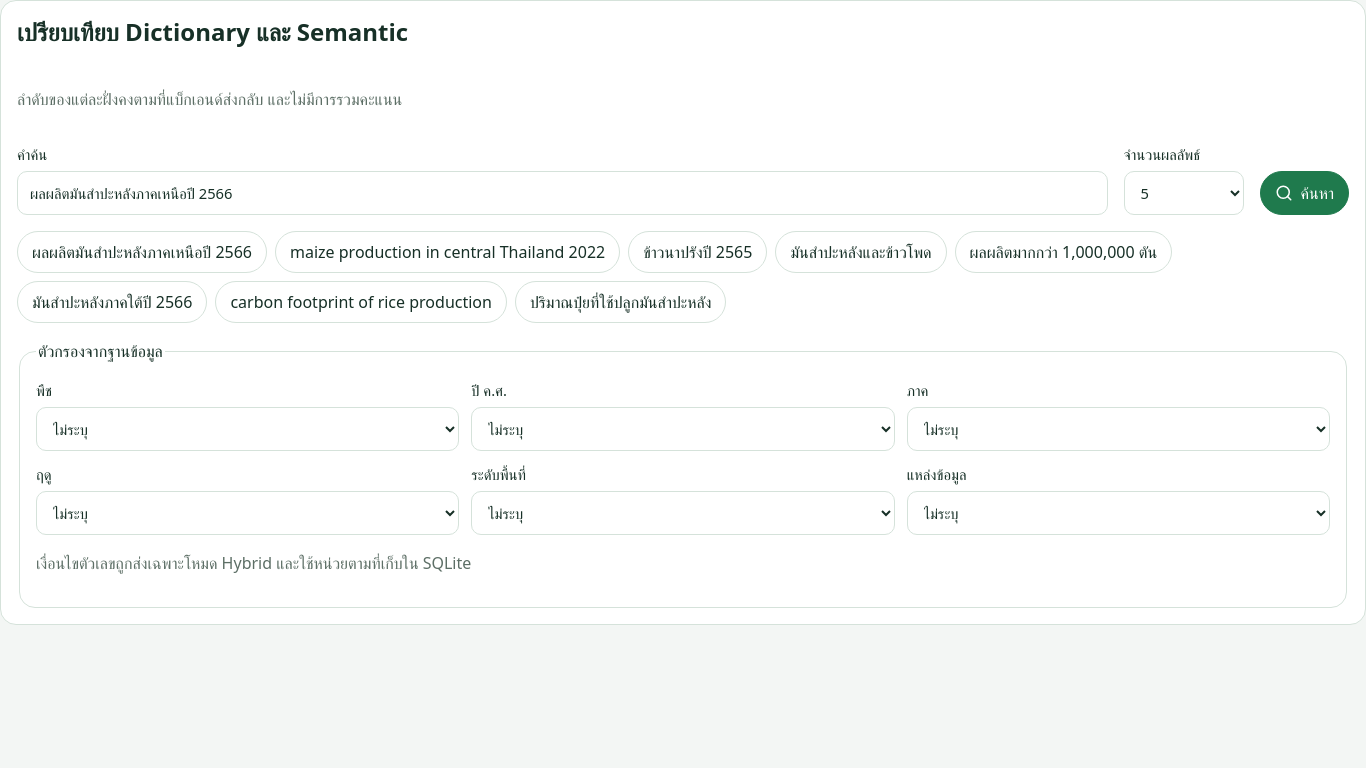
Test: frontend › shows a dictionary source from the catalog and hides a missing source
The width and height of the screenshot is (1366, 768).
Click the button "ค้นหา": (1304, 193) [1260,171,1349,215]
(page scrolled)
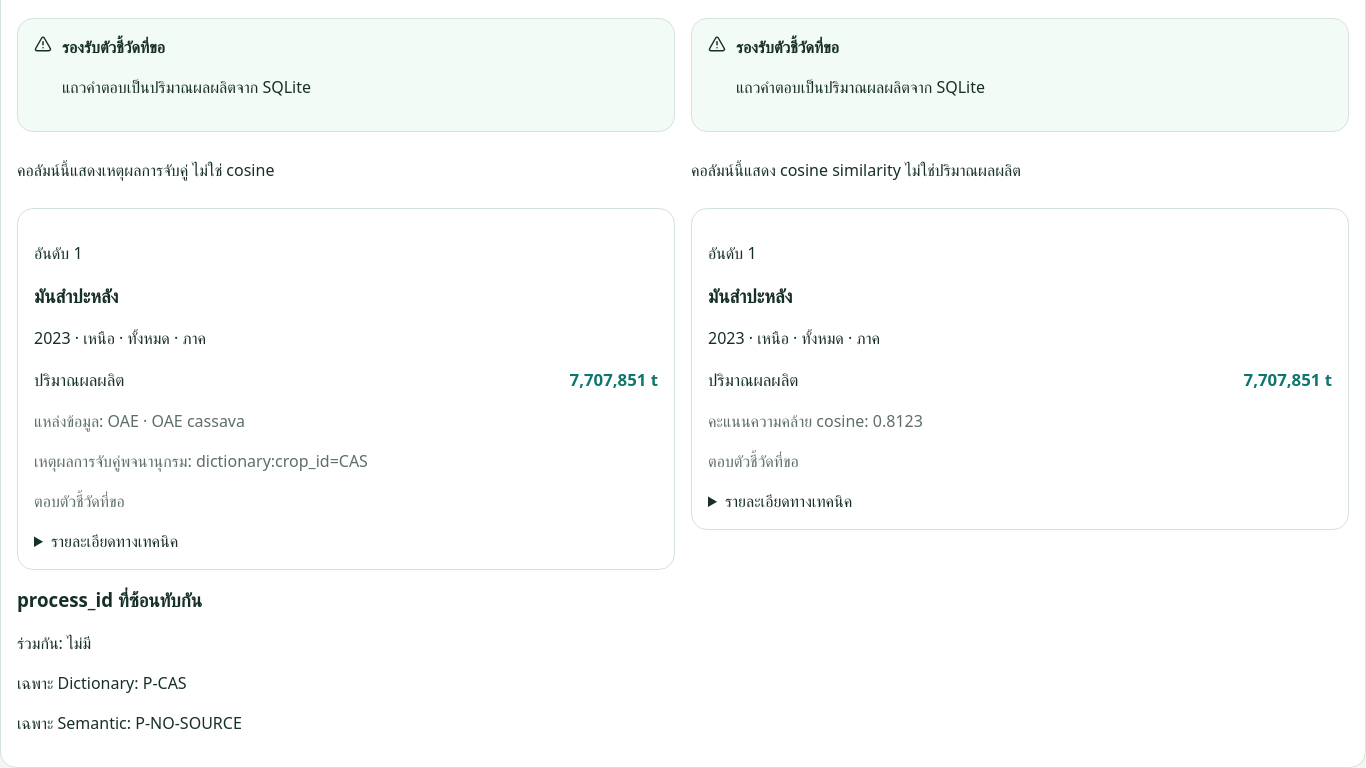
Result: the text "แหล่งข้อมูล: OAE · OAE cassava" is shown once at [34,410,245,432]
